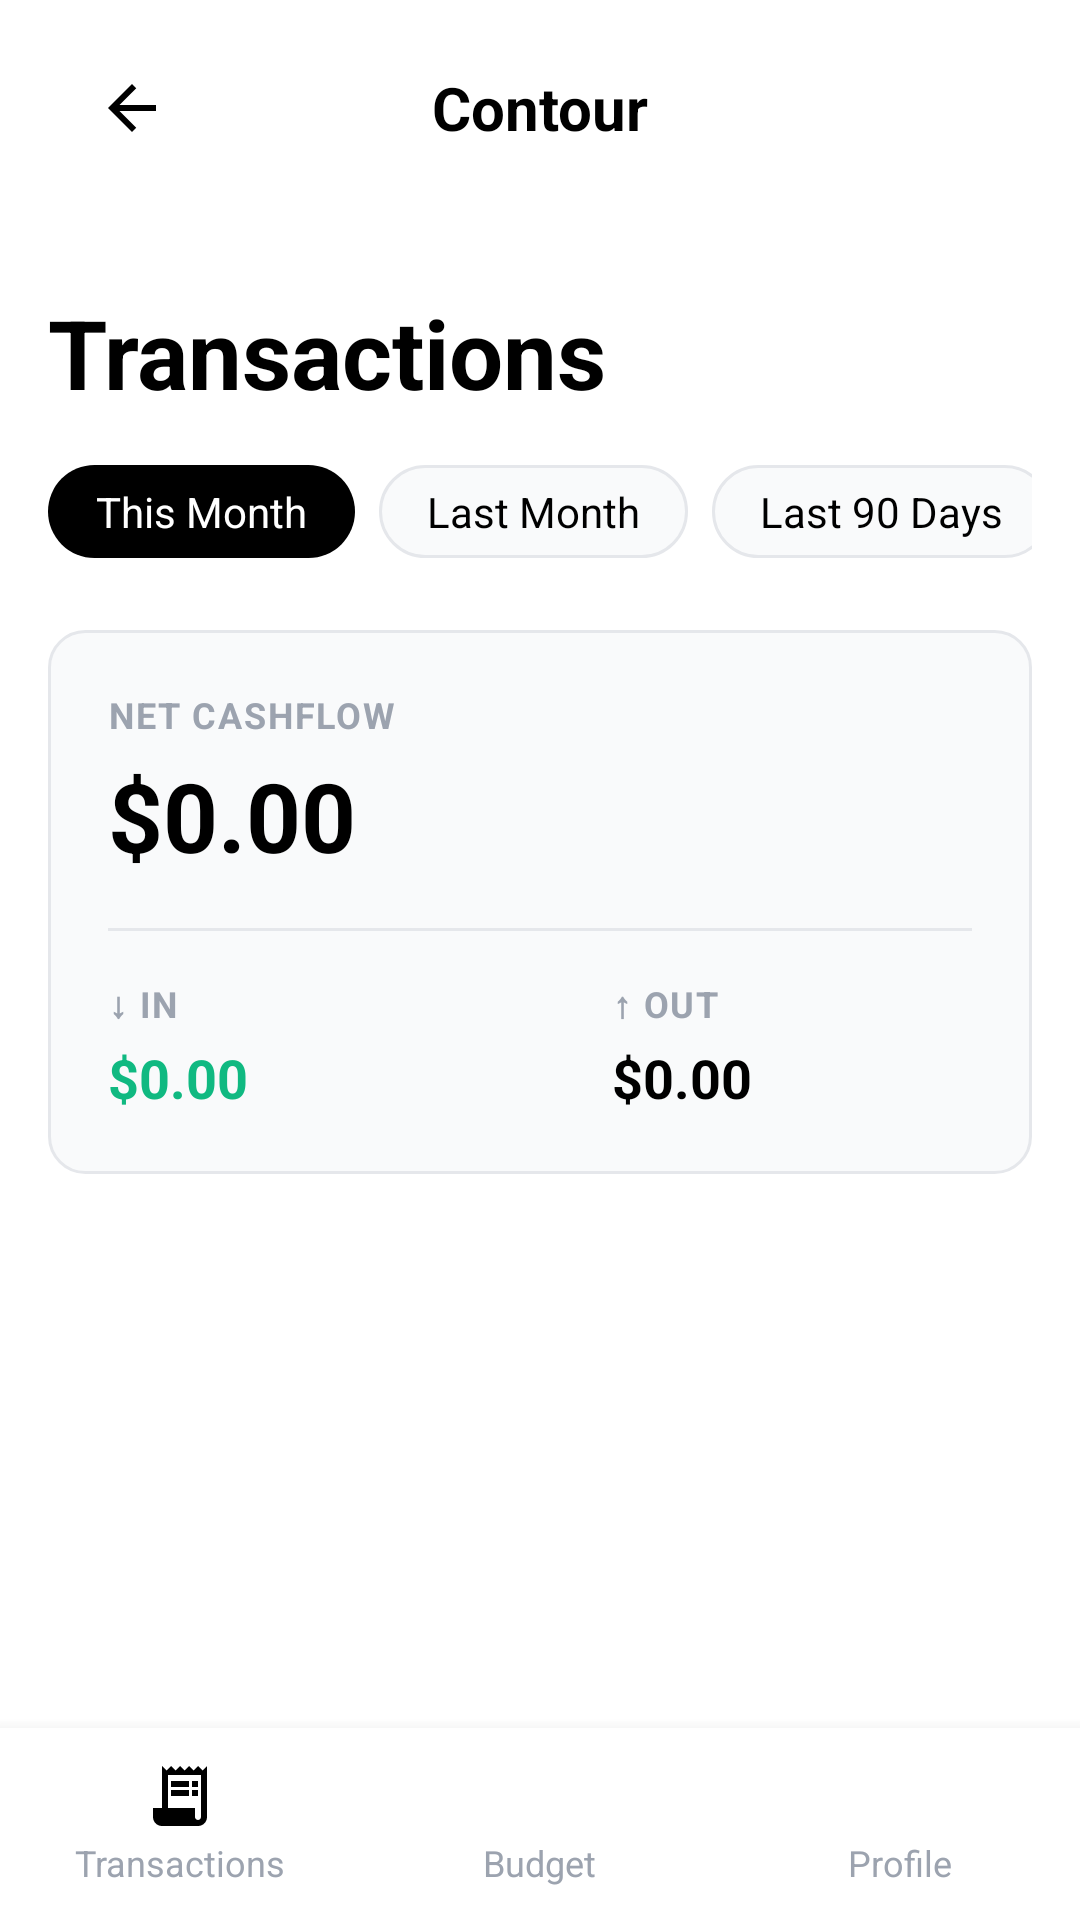

Icons on this 1080px x 1920px Android screen, each with its box as (x1, y1, x2, y2):
Back: (108, 84, 156, 132)
